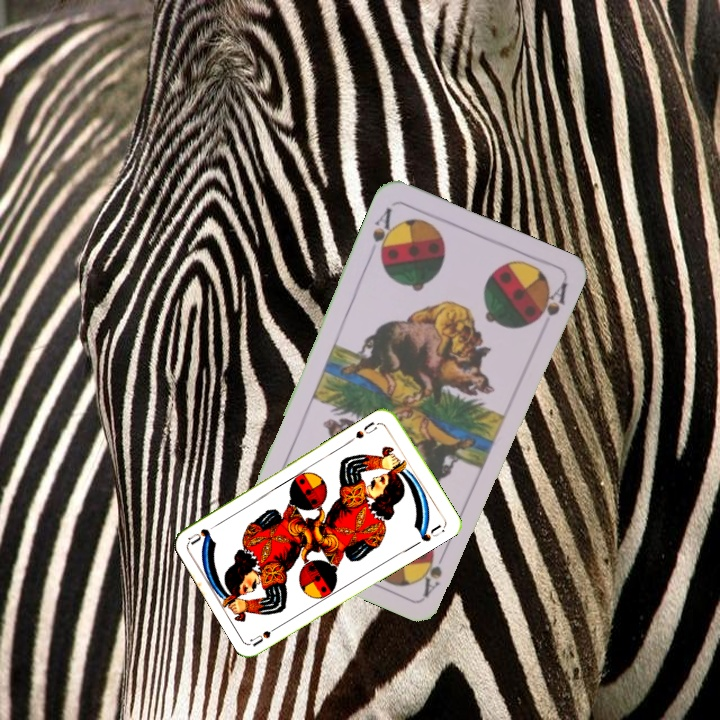SA: (368, 203, 399, 263), (419, 542, 451, 598)
SU: (247, 620, 285, 649), (347, 418, 384, 444)
